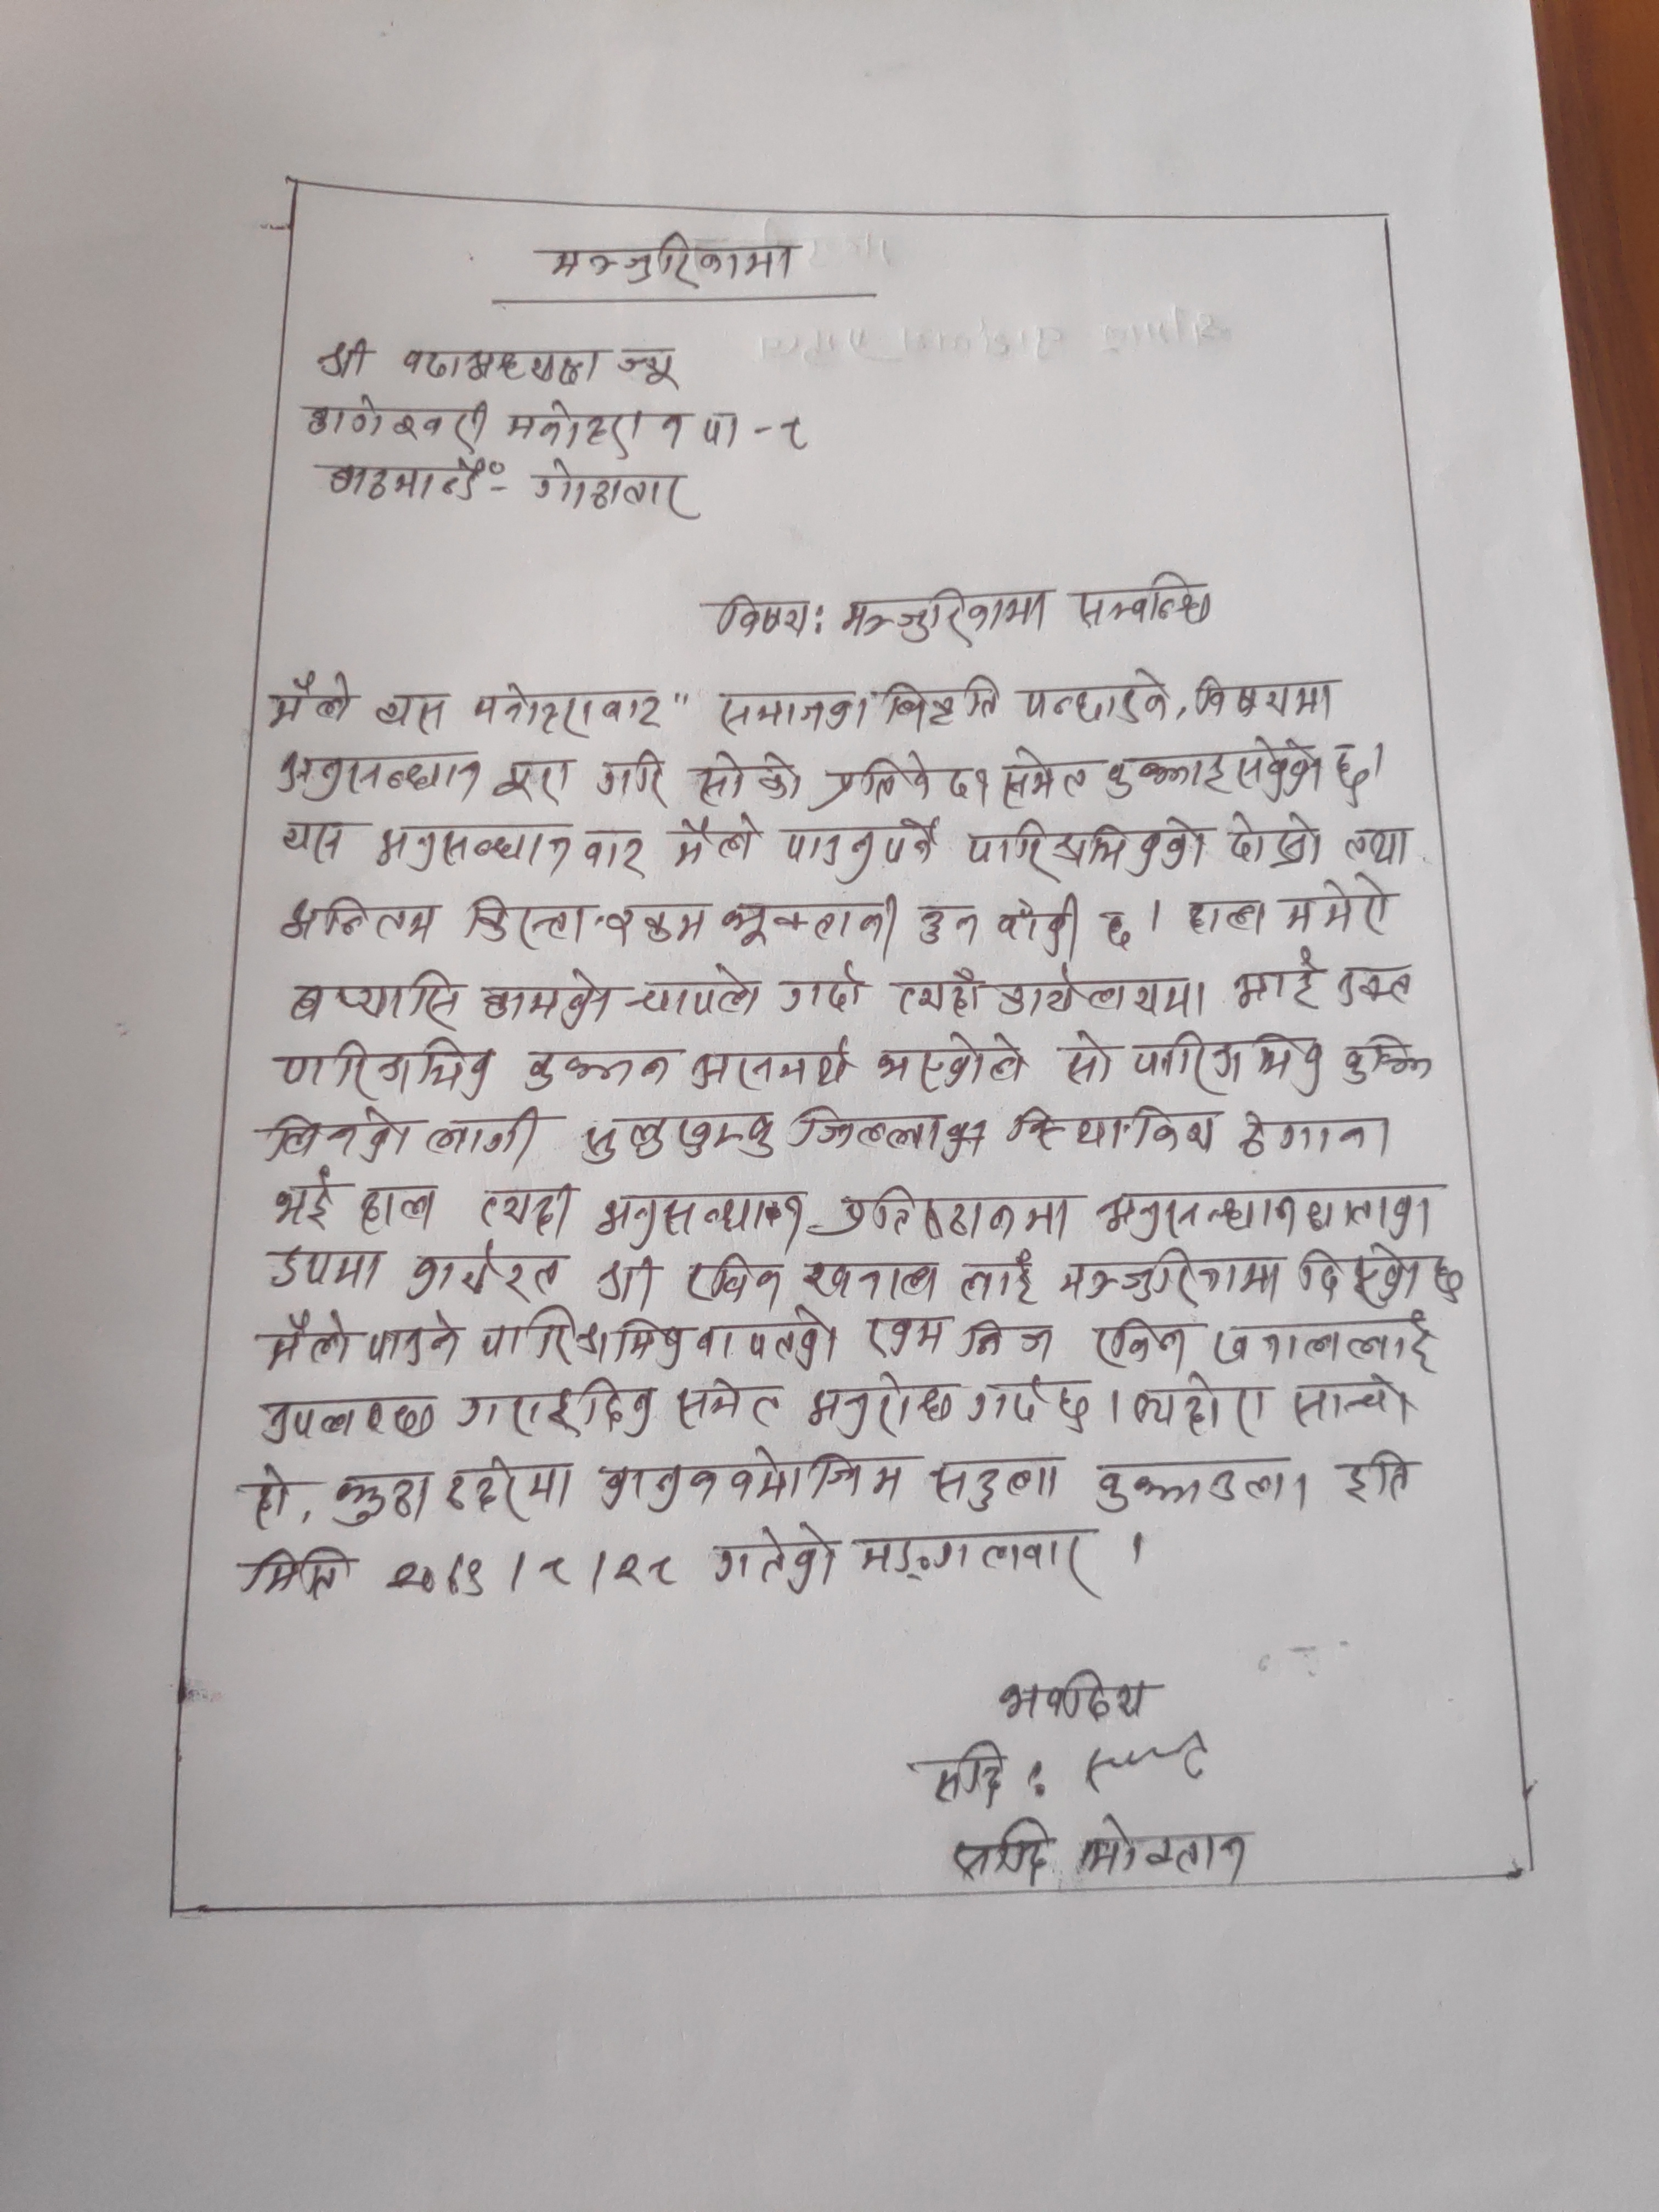text: (1094, 1179, 1446, 1244), (849, 1527, 1108, 1606), (598, 1446, 906, 1510), (382, 1545, 683, 1601), (821, 1183, 1079, 1247), (1105, 733, 1331, 805), (538, 230, 803, 291), (964, 820, 1213, 885), (1211, 1313, 1439, 1376), (1131, 1028, 1331, 1099), (835, 583, 1056, 648), (1089, 1454, 1310, 1515), (1054, 1249, 1288, 1306), (281, 1038, 498, 1099), (467, 674, 666, 740), (453, 1379, 659, 1440), (587, 1186, 805, 1244), (1077, 1813, 1256, 1883), (1004, 1104, 1223, 1160), (1004, 961, 1209, 1021), (721, 894, 906, 954), (530, 458, 704, 523), (301, 394, 497, 451), (582, 1111, 777, 1169), (254, 1393, 446, 1451), (399, 338, 603, 392), (781, 820, 950, 885), (401, 1238, 573, 1301), (267, 751, 488, 799), (371, 820, 577, 873), (284, 972, 469, 1029), (1018, 662, 1173, 730), (871, 1029, 1032, 1094), (1066, 568, 1215, 637), (788, 1096, 945, 1160), (993, 1669, 1162, 1728), (805, 1372, 953, 1439), (260, 1103, 420, 1163), (692, 1310, 842, 1374), (324, 451, 491, 509), (708, 1526, 845, 1595), (439, 1454, 584, 1521), (688, 1036, 852, 1094), (1124, 1381, 1274, 1444), (819, 751, 972, 810), (713, 681, 868, 738), (1236, 1109, 1394, 1165), (479, 1306, 610, 1371), (964, 1369, 1091, 1435), (924, 1453, 1060, 1514), (507, 397, 647, 456), (1283, 873, 1401, 942), (1300, 1238, 1419, 1308), (945, 1817, 1056, 1890), (422, 1104, 545, 1169), (279, 895, 446, 942), (481, 968, 613, 1028), (518, 1047, 678, 1096), (622, 963, 762, 1019), (460, 894, 594, 951), (1290, 1376, 1424, 1432), (803, 1254, 946, 1306), (678, 1249, 789, 1315), (239, 1545, 357, 1606), (258, 1308, 361, 1378), (882, 672, 1002, 730), (690, 751, 805, 810), (1194, 672, 1333, 721), (1234, 949, 1331, 1019), (261, 671, 361, 738), (669, 1378, 784, 1435), (990, 894, 1082, 963), (1002, 742, 1094, 810), (1220, 808, 1324, 867), (918, 1738, 1007, 1808), (352, 1174, 448, 1238), (331, 1468, 432, 1529), (1091, 1315, 1194, 1374), (263, 1244, 383, 1294), (953, 1249, 1049, 1312), (366, 1312, 465, 1369), (671, 813, 765, 873), (476, 1183, 572, 1240), (957, 1315, 1058, 1367), (1337, 1035, 1434, 1089), (777, 960, 866, 1019), (1330, 960, 1422, 1014), (1338, 1449, 1422, 1508), (603, 904, 711, 949), (892, 970, 990, 1019), (591, 745, 666, 808), (268, 1169, 336, 1237), (488, 758, 582, 806), (711, 597, 816, 641), (1178, 895, 1274, 942), (610, 1315, 688, 1372), (861, 1317, 950, 1364), (375, 685, 455, 735), (612, 341, 690, 392), (657, 406, 744, 451), (272, 815, 359, 860), (579, 824, 648, 880), (242, 1463, 298, 1533), (1060, 1031, 1122, 1089), (592, 1258, 660, 1308), (1337, 826, 1419, 867), (915, 900, 985, 948), (1427, 1249, 1481, 1308), (1330, 740, 1373, 810), (312, 338, 380, 380), (1094, 902, 1148, 953), (774, 415, 828, 462)
